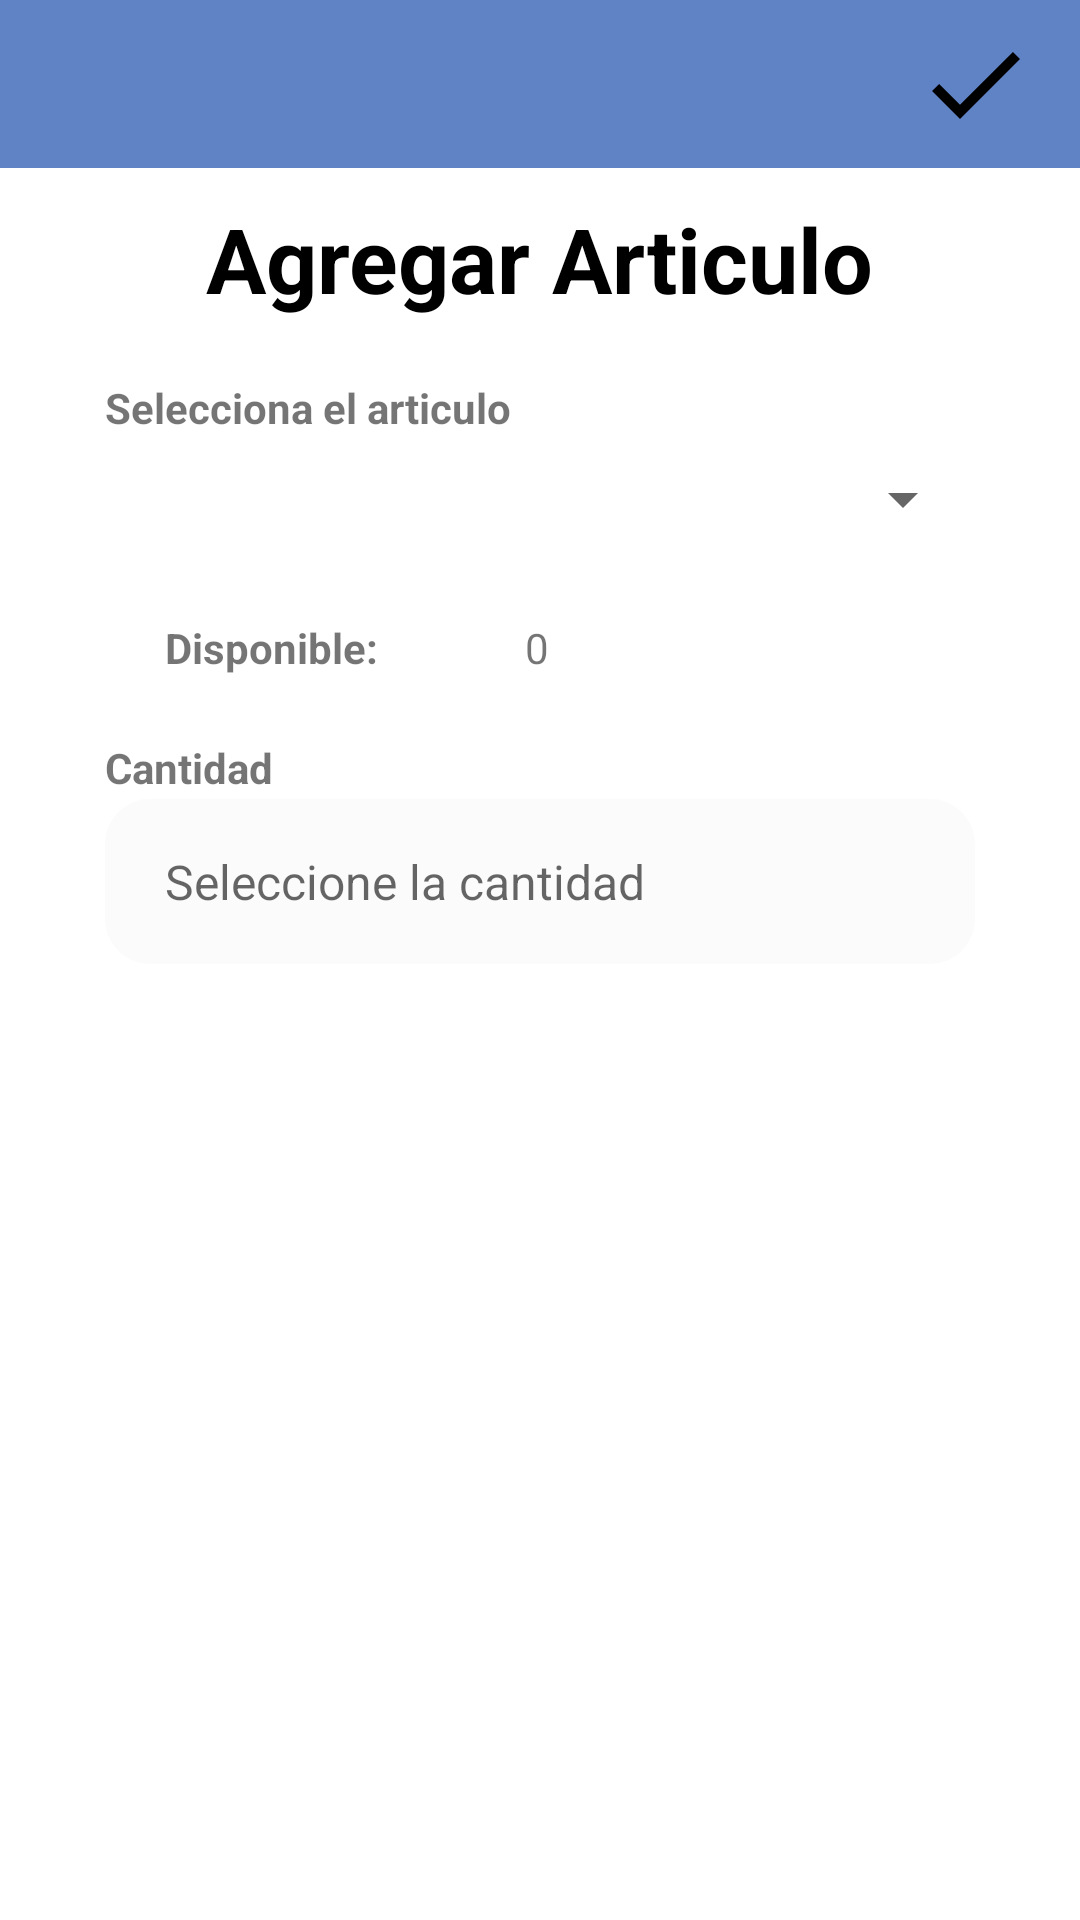

Icon click points for this 1080×1920 phone screenshot, format point (x, y):
salvar: point (976, 85)
